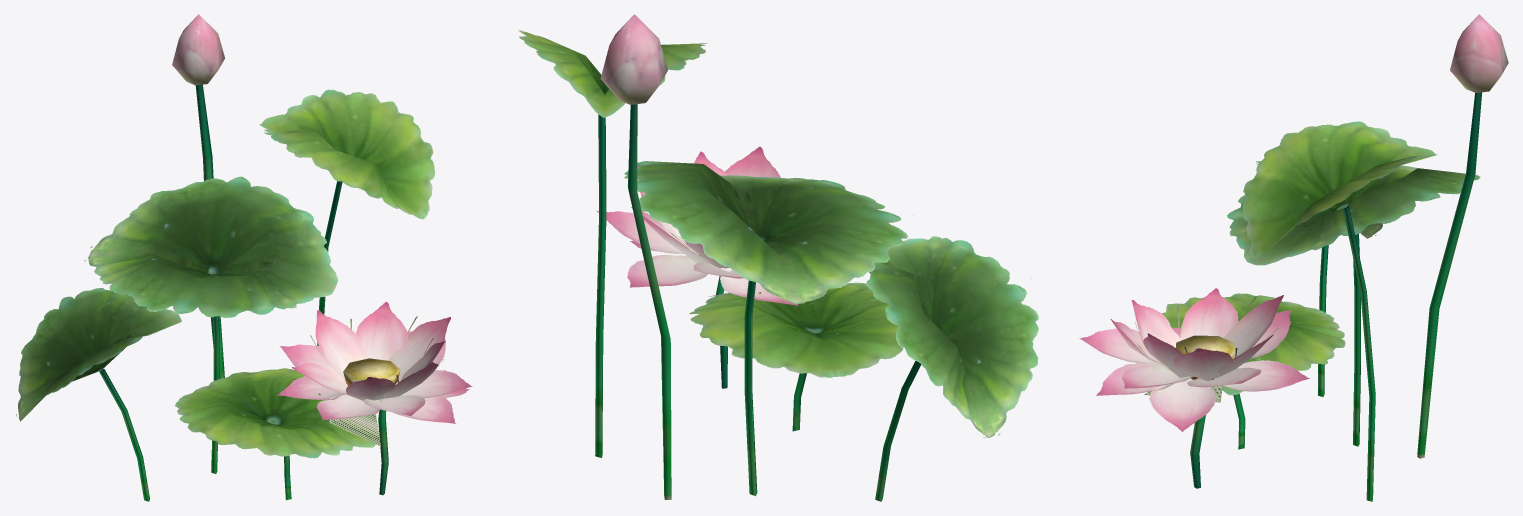
File: cj_luoyang_hehua01_54_05_5373out.fbx
3 views of the same model, side by side, from view 1: azimuth 30°, elevation 25°; view 2: azimuth 150°, elevation 25°; view 3: azimuth 270°, elevation 25° (orthographic). The views are drawn at different scales.
Parts seen in each view (by area): view 1: cj_luoyang_hehua01; view 2: cj_luoyang_hehua01; view 3: cj_luoyang_hehua01.
Part boxes in pixels (x1=…): cj_luoyang_hehua01: x1=16, y1=14, x2=472, y2=501; cj_luoyang_hehua01: x1=518, y1=14, x2=1038, y2=501; cj_luoyang_hehua01: x1=1079, y1=14, x2=1508, y2=501.
Size of the model in its own units: 5.03 by 4.84 by 4.2.
